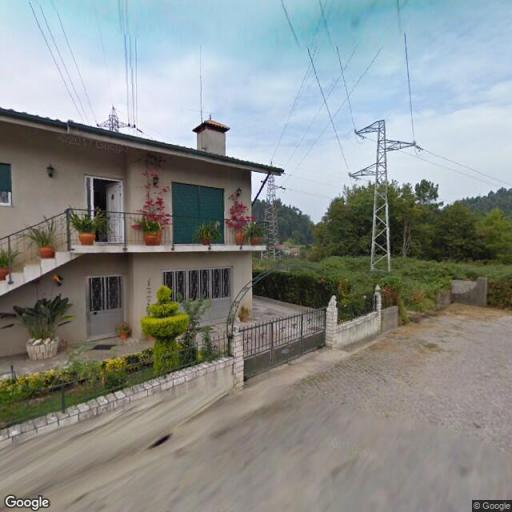ss_4: (350, 117, 419, 272), (259, 161, 286, 260)
